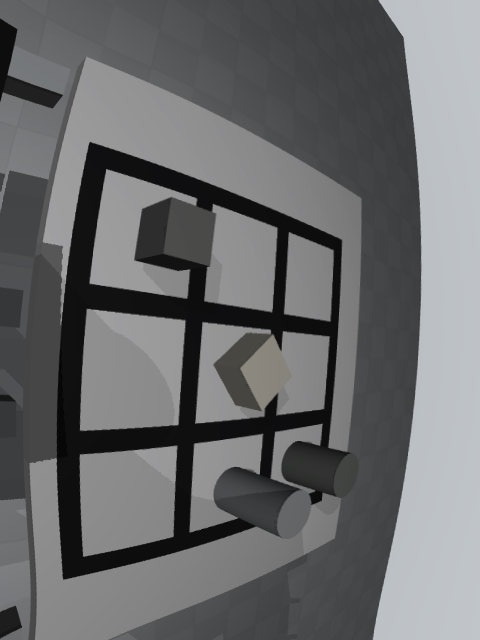can: (214, 467, 312, 539)
cube: (134, 197, 217, 271)
cylinder: (281, 441, 359, 498)
foam: (213, 332, 291, 411)
